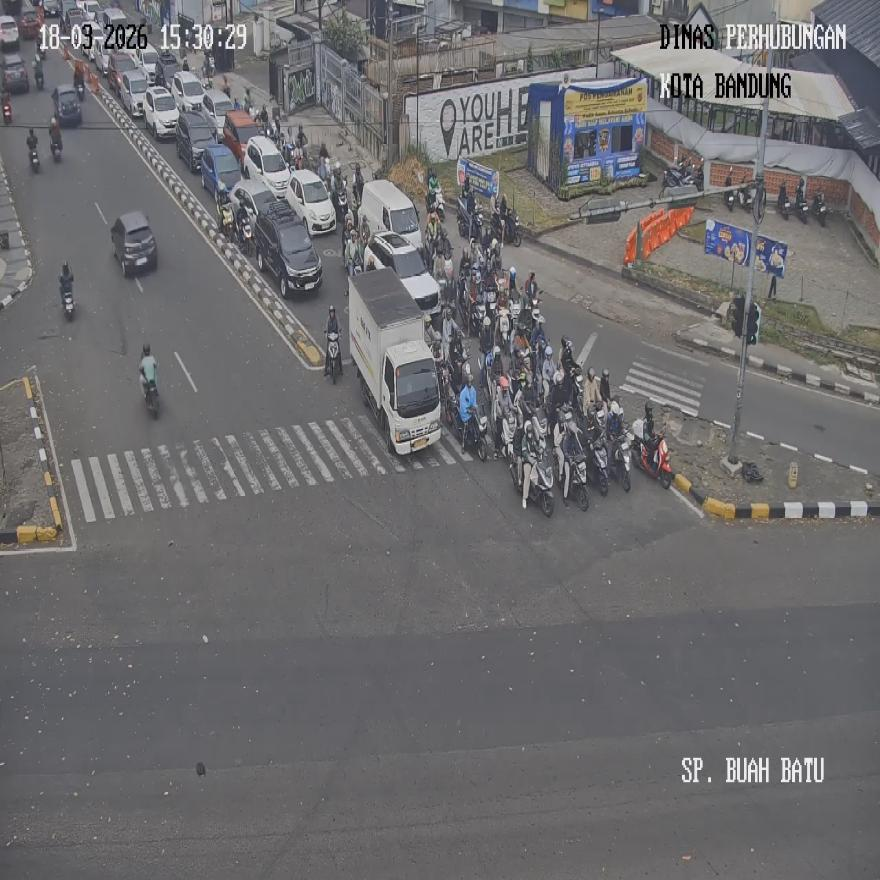Mobil: (348, 266, 442, 454), (256, 199, 323, 298)
Motor: (634, 424, 674, 488), (459, 402, 488, 460), (609, 426, 631, 491), (456, 193, 478, 240), (216, 184, 234, 241), (234, 204, 253, 254), (497, 409, 515, 461), (325, 331, 342, 383), (142, 369, 158, 416), (59, 276, 74, 320), (724, 166, 737, 212), (504, 209, 520, 246), (49, 118, 62, 162), (740, 180, 756, 215), (28, 134, 40, 173), (796, 184, 808, 223), (779, 183, 791, 220), (814, 191, 826, 226), (33, 54, 44, 90), (0, 92, 12, 124)
